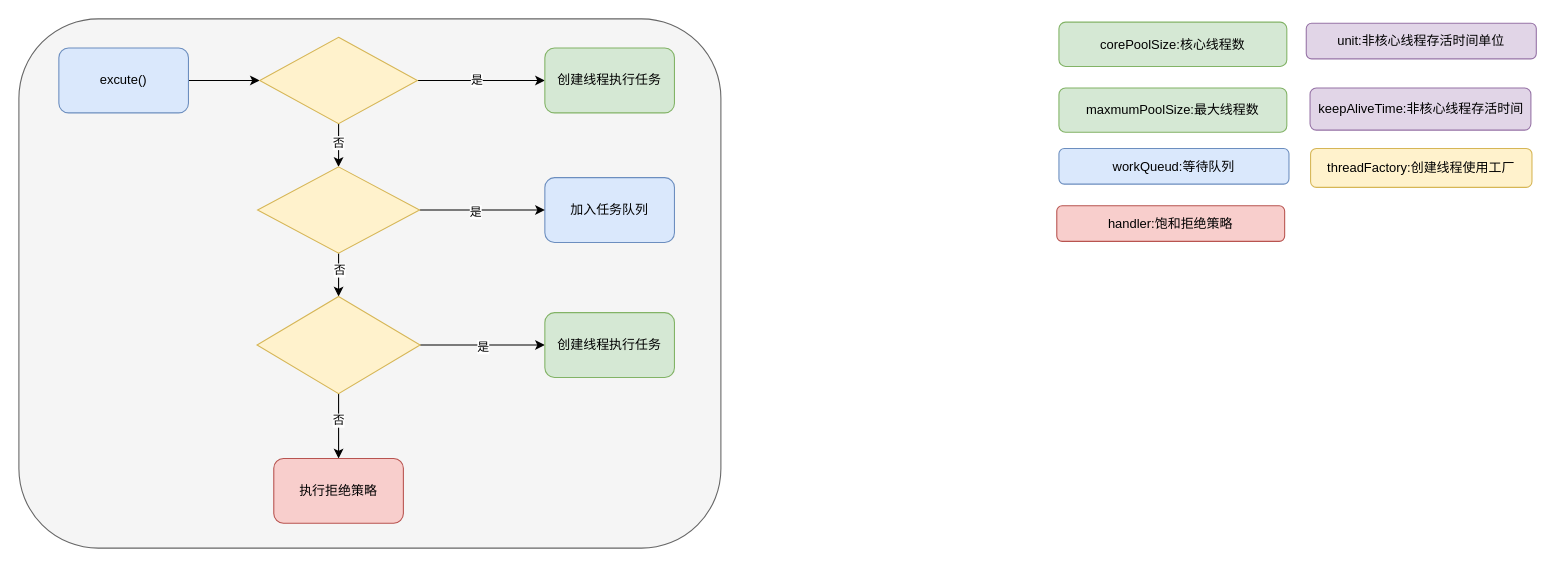
Image size: 1555x567. Some labels were removed from this diagram. Each missing label, with the centre of its shape:
"任务队列未满？" goes at [338,209].
"小于最大线程数？" goes at [338,344].
"核心线程未满？" goes at [338,80].
